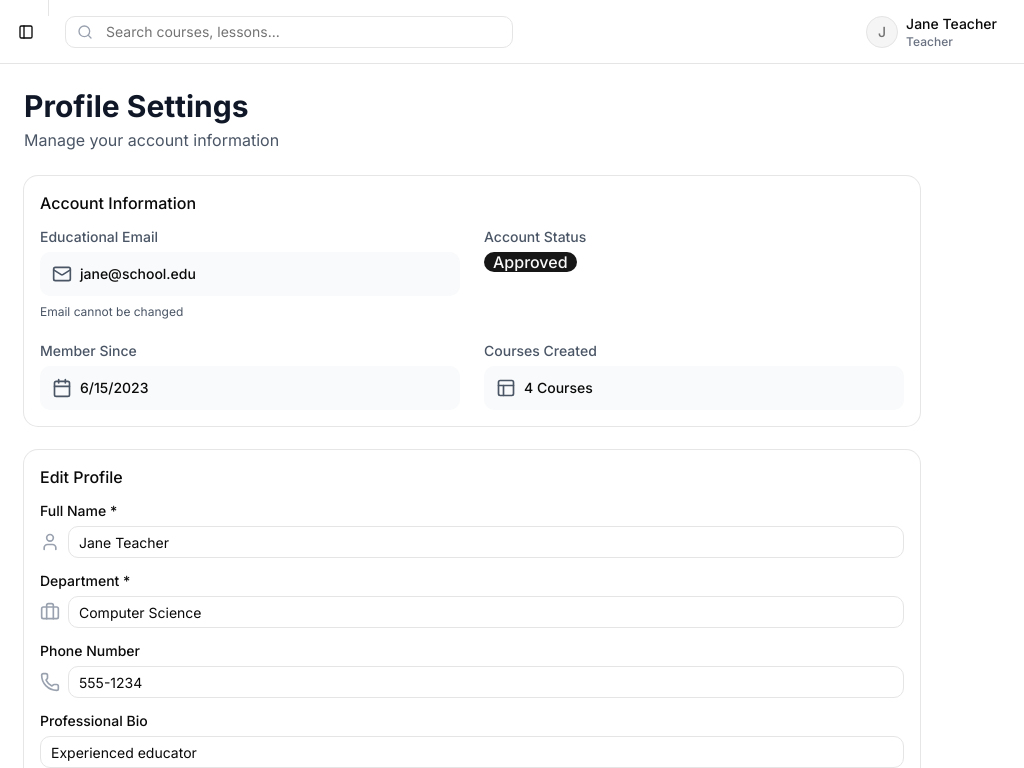
Test: Teacher Profile Page - Form Validation (10.4) › shows error when department is empty
The image size is (1024, 768).
Clear the field showing "Computer Science" at (486, 612), box [68,596,904,628]
(page scrolled)
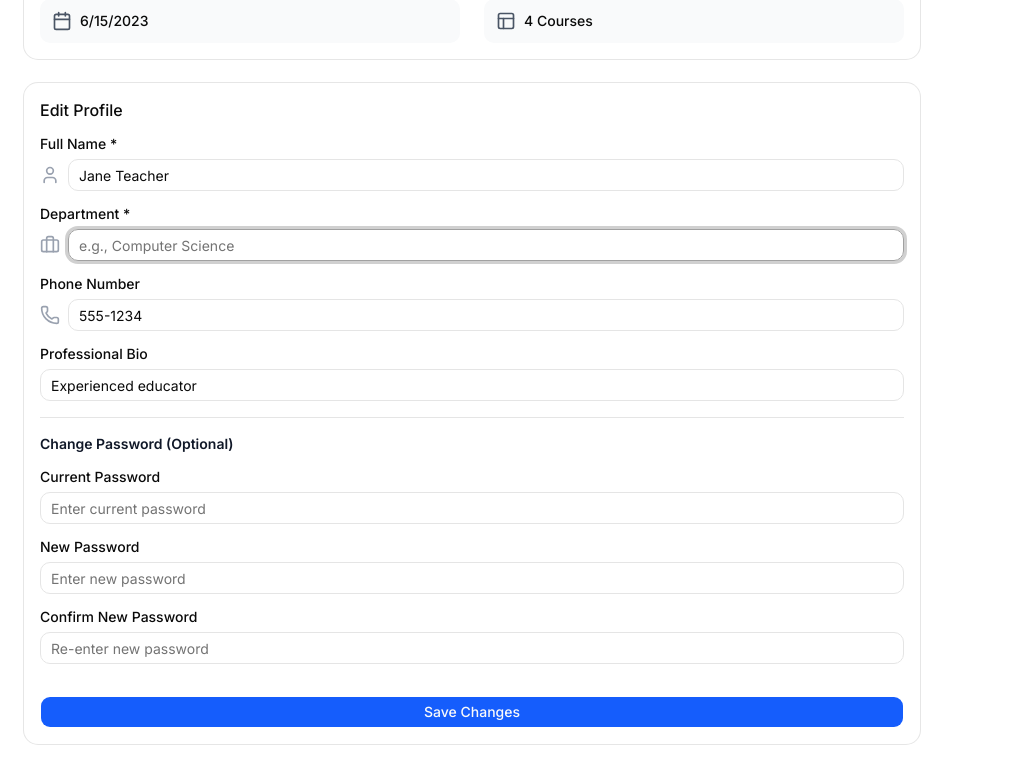
Submit the form named "save changes"
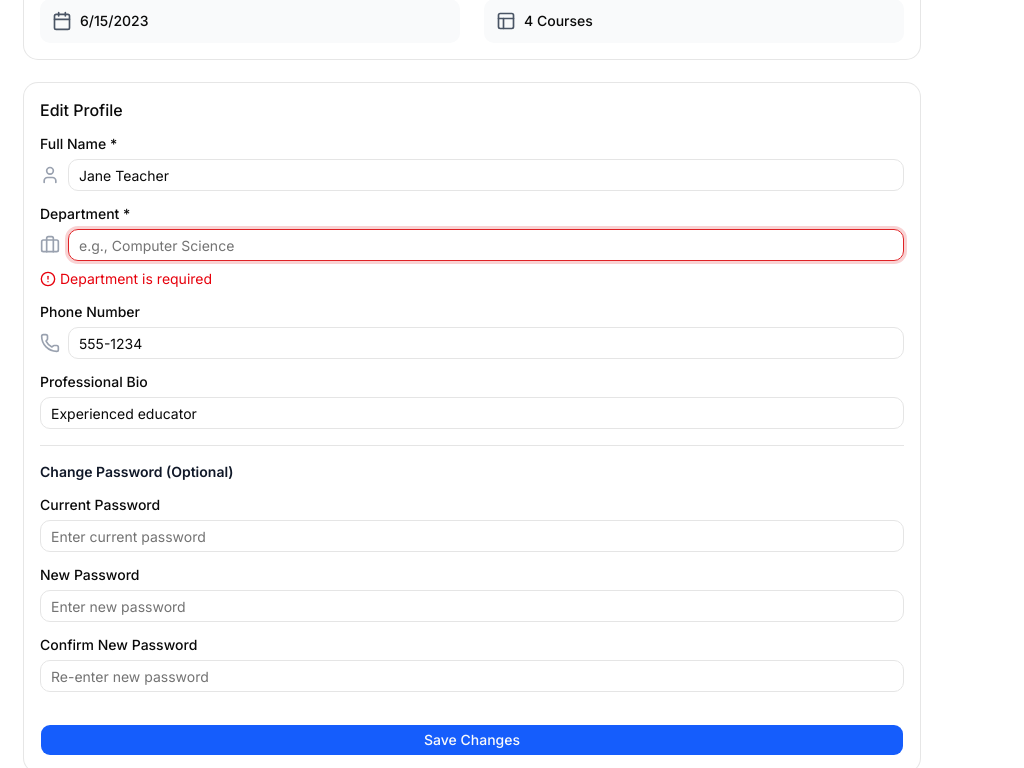
Expected: the text "Department is required" is shown, [40,270,212,287]
